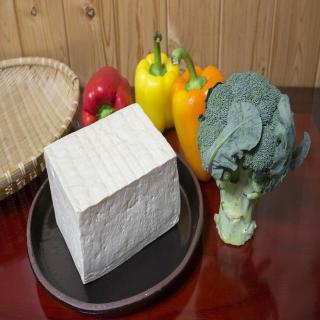Tahu: (18, 102, 215, 292)
